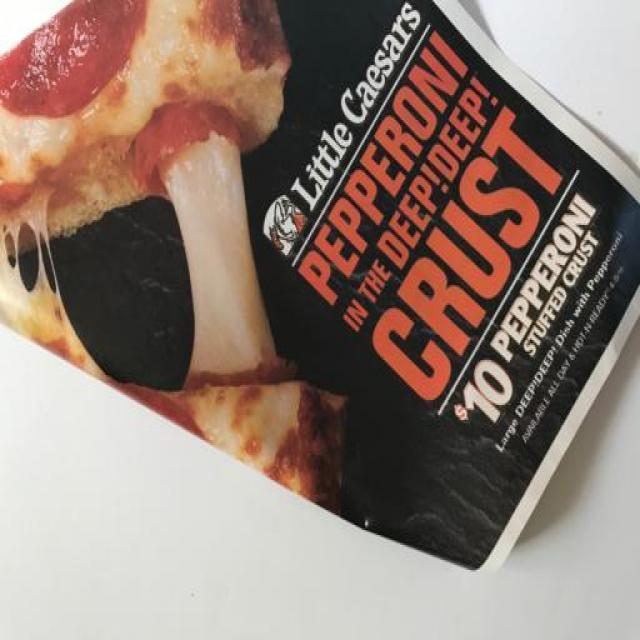paper: (1, 1, 640, 578)
